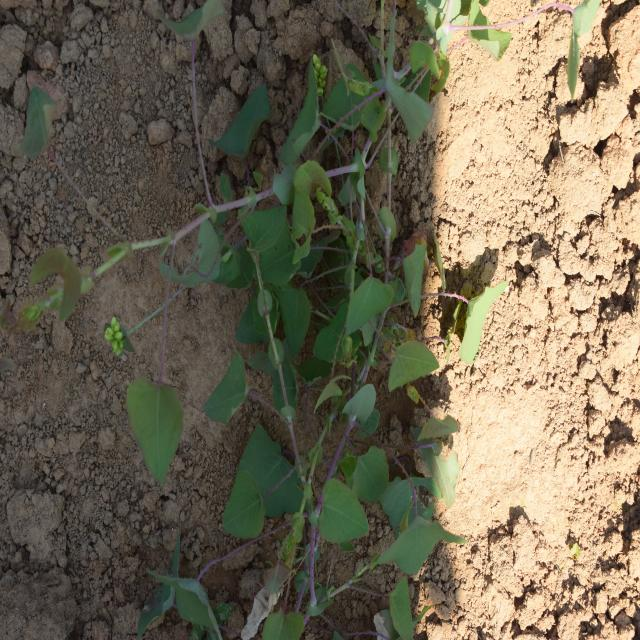Asiatic_Smartweed: (19, 87, 187, 481), (206, 207, 329, 546), (320, 378, 466, 574)
